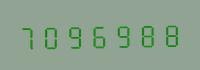eight: (132, 19, 154, 49), (155, 19, 177, 48)
nine: (63, 20, 85, 50), (109, 19, 131, 49)
seven: (17, 21, 39, 51)
six: (86, 20, 108, 49)
zero: (40, 21, 62, 50)
